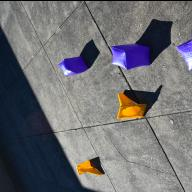cone: (117, 92, 147, 118), (76, 159, 104, 175)
cube: (112, 42, 150, 68), (58, 55, 89, 75), (175, 38, 192, 70)
